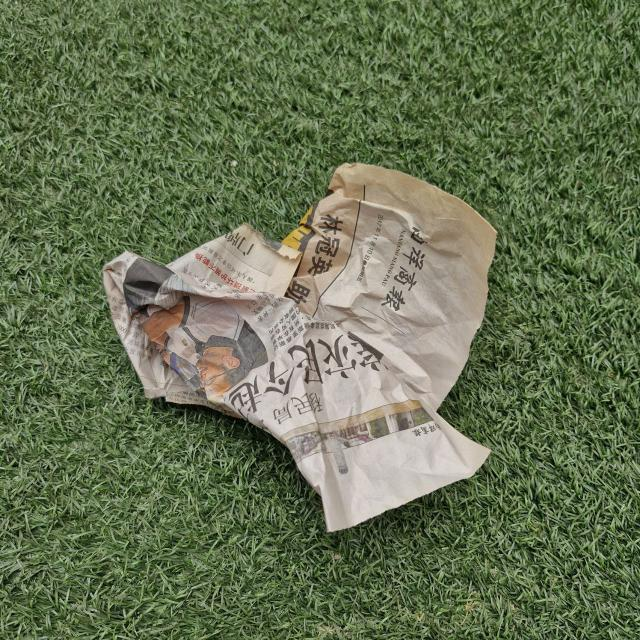paper: (110, 158, 506, 530)
